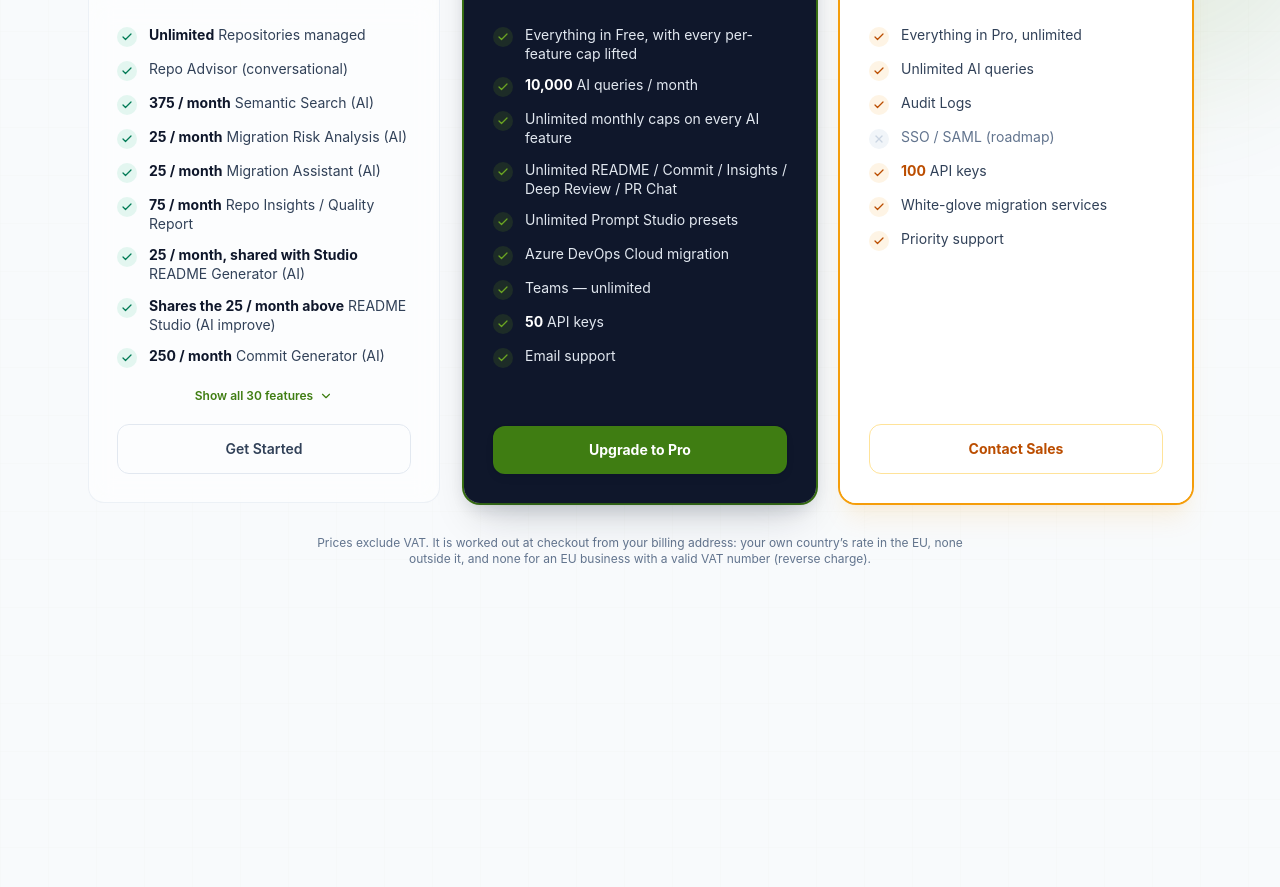
Test case: PricingPage — the checkout-unavailable banner names no deployment type › points at the contact route the page already uses
(page scrolled)
Click the button "Upgrade to Pro" at (640, 450), box [493, 426, 787, 474]
Wait 30000 ms
(page scrolled)
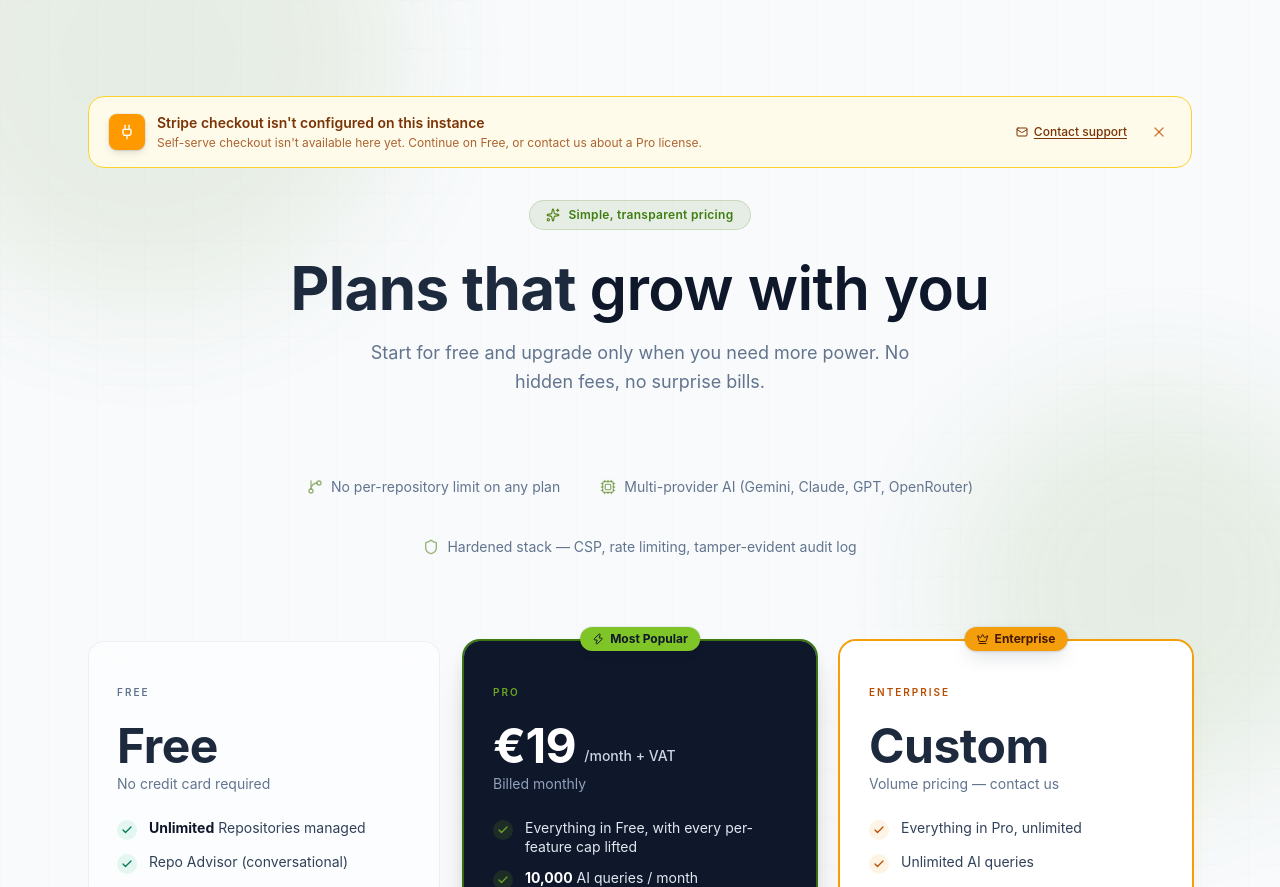
Check: the link "Contact support" is shown, box [1016, 124, 1127, 139]
